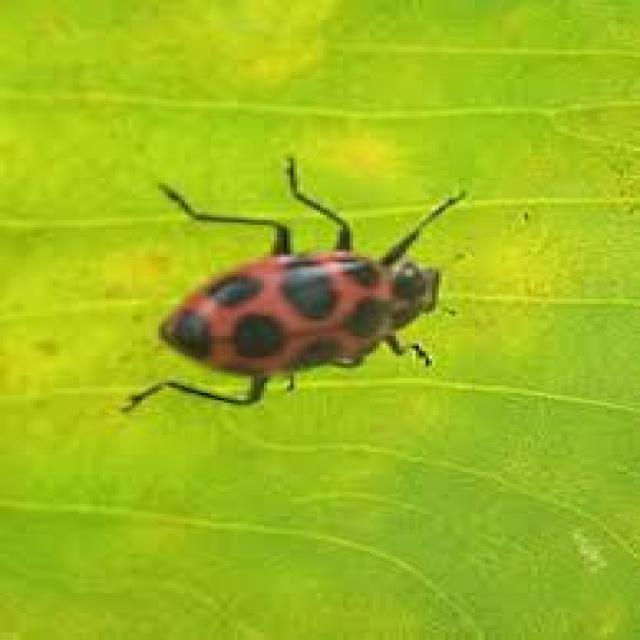bug: (120, 145, 474, 415)
